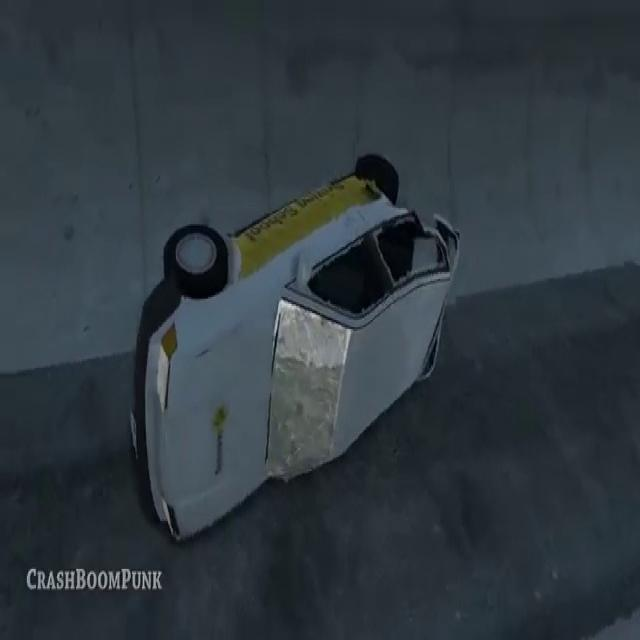accident: (122, 146, 462, 541)
